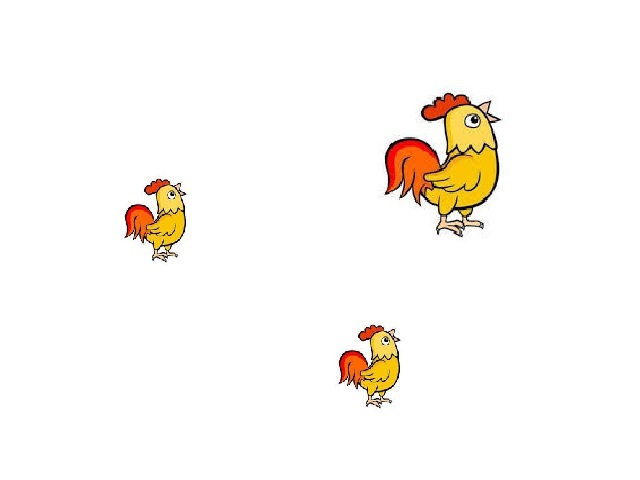crown: (416, 93, 473, 119), (357, 322, 384, 340), (142, 179, 169, 193)
eyes: (464, 114, 484, 131), (168, 189, 177, 199), (380, 336, 389, 344)
feet: (434, 214, 484, 240), (366, 394, 393, 411), (151, 247, 176, 260)
tail: (384, 136, 435, 205), (120, 204, 153, 242), (342, 350, 364, 389)
